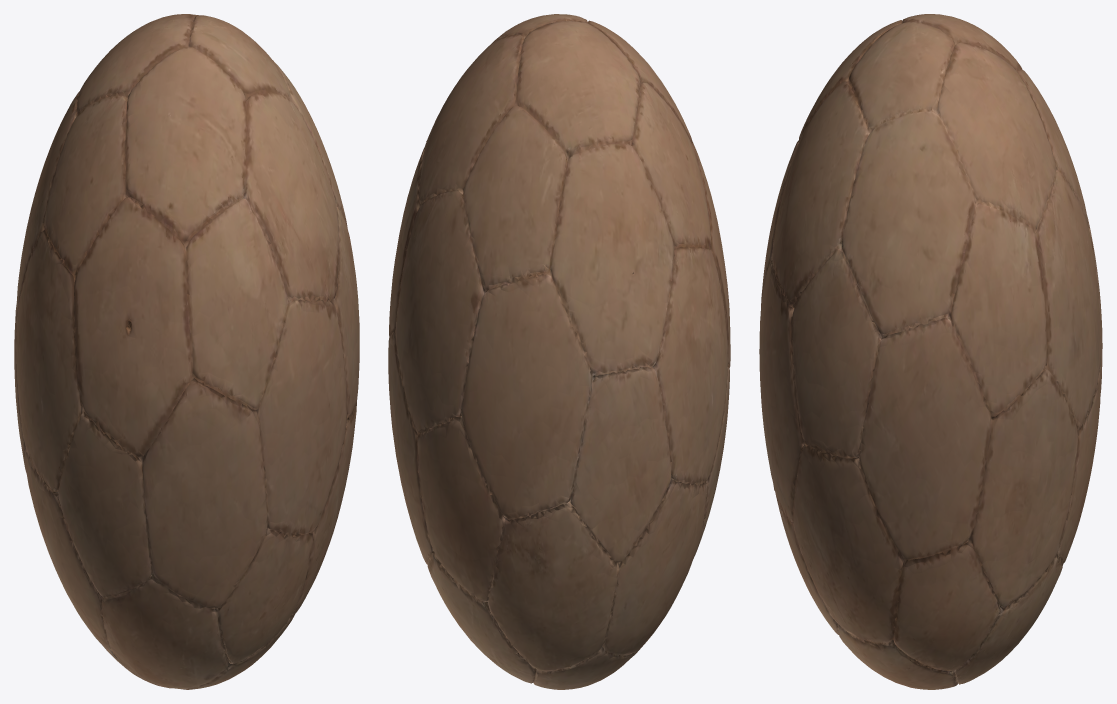
File: soccer_ball.glb
The picture shows the model from 3 angles, left to right: view 1: azimuth 30°, elevation 25°; view 2: azimuth 150°, elevation 25°; view 3: azimuth 270°, elevation 25°; orthographic projection.
Parts seen in each view (by area): view 1: dirty_football.001; view 2: dirty_football.001; view 3: dirty_football.001.
Boxes of the visible parts, bbox=[...] form: dirty_football.001: bbox=[14, 14, 359, 689]; dirty_football.001: bbox=[388, 14, 730, 689]; dirty_football.001: bbox=[759, 14, 1102, 689].
Size of the model in its own units: 5.13 by 10.83 by 5.09.
1 material, 1 textured.
